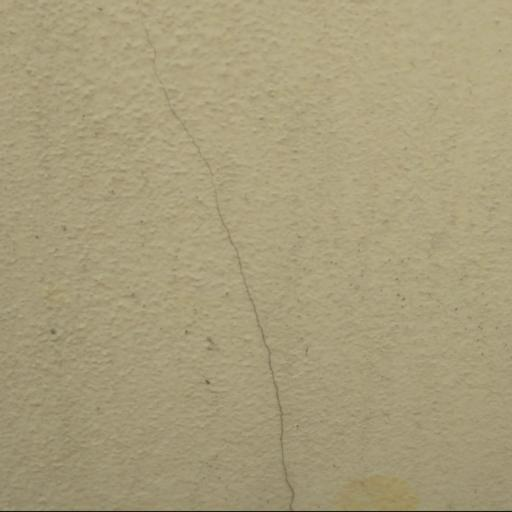minor_crack: (132, 0, 317, 512)
